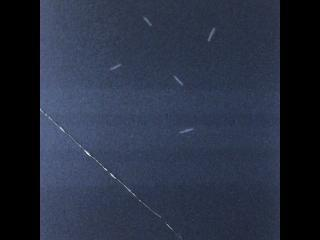crack: (40, 108, 182, 240)
scratch: (166, 72, 184, 89), (139, 12, 156, 29), (106, 60, 124, 74), (206, 24, 217, 44), (175, 126, 197, 136)
